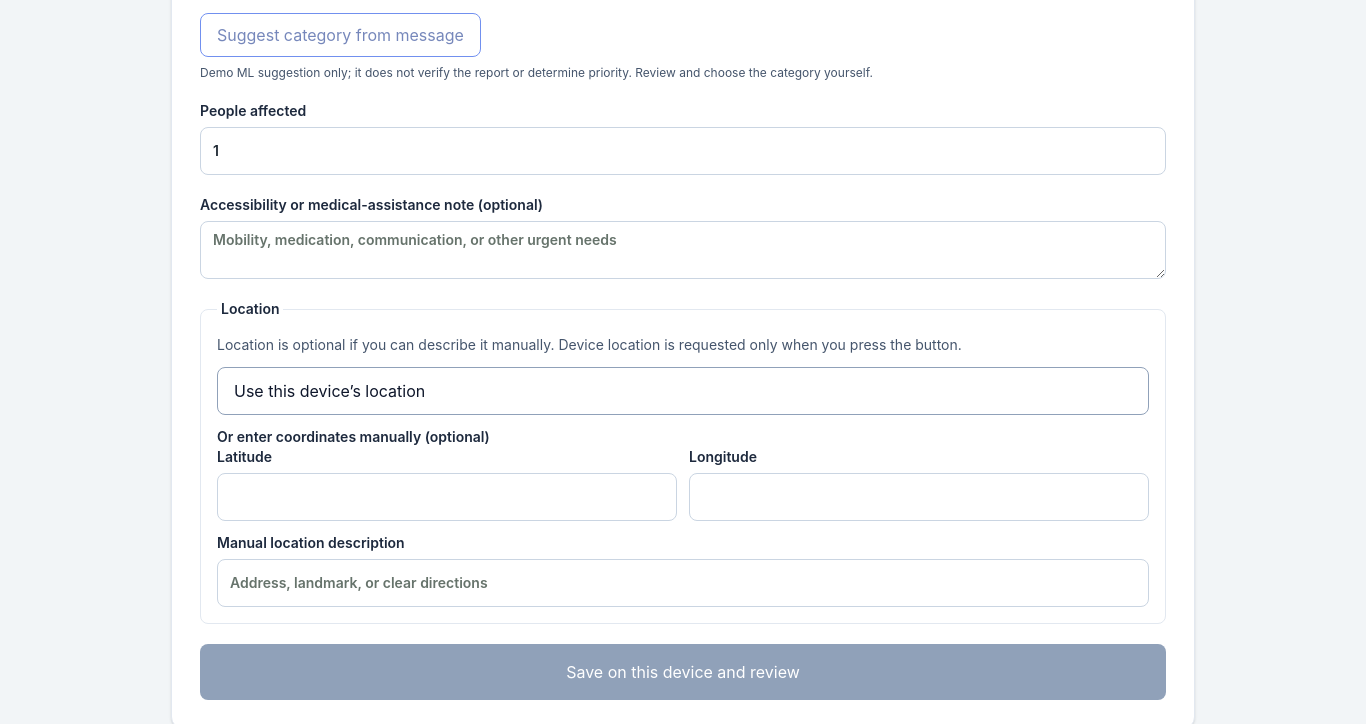
Scenario: offline emergency mode › labels manually entered coordinates as unverified and validates coordinate bounds
This screenshot has width=1366, height=724.
(page scrolled)
Type "27.7" into the number field labelled "Latitude". click: (447, 497)
box: top-left (217, 473), bottom-right (677, 521)
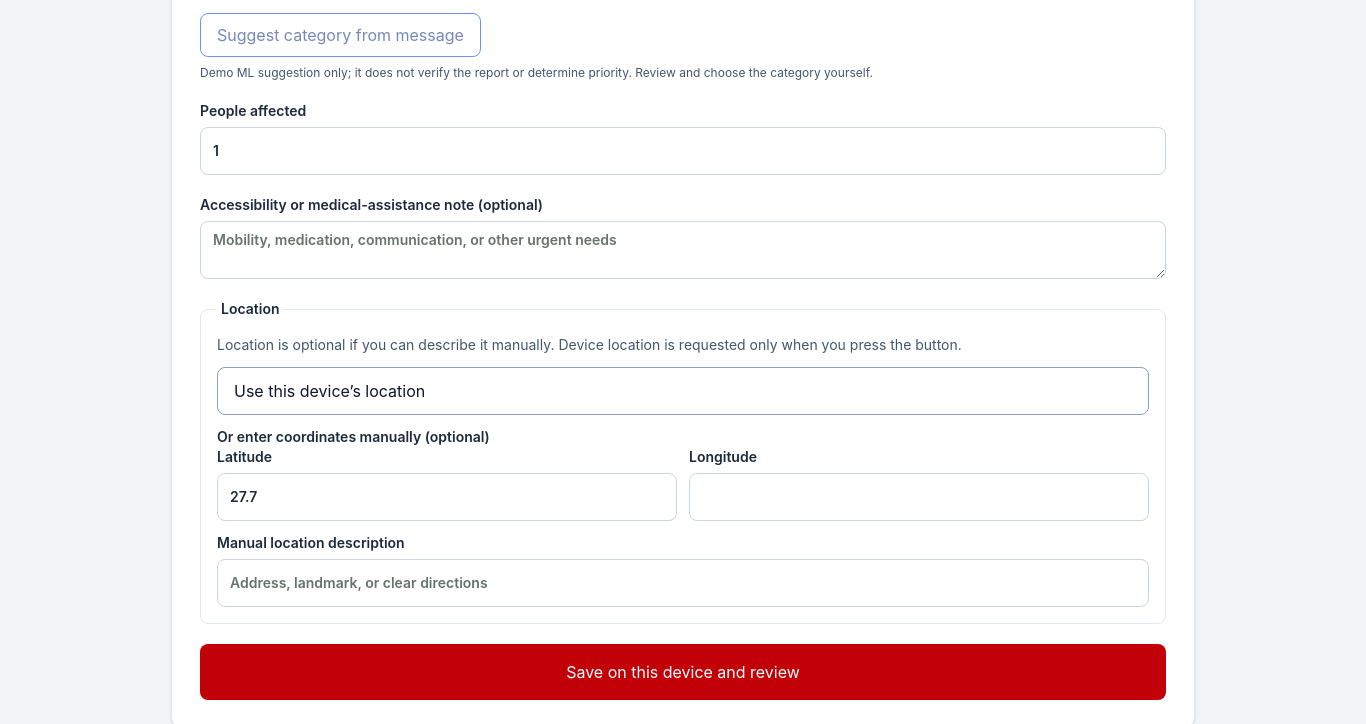
Type "85.3" into the number field labelled "Longitude". click: (919, 497)
box: top-left (689, 473), bottom-right (1149, 521)
(page scrolled)
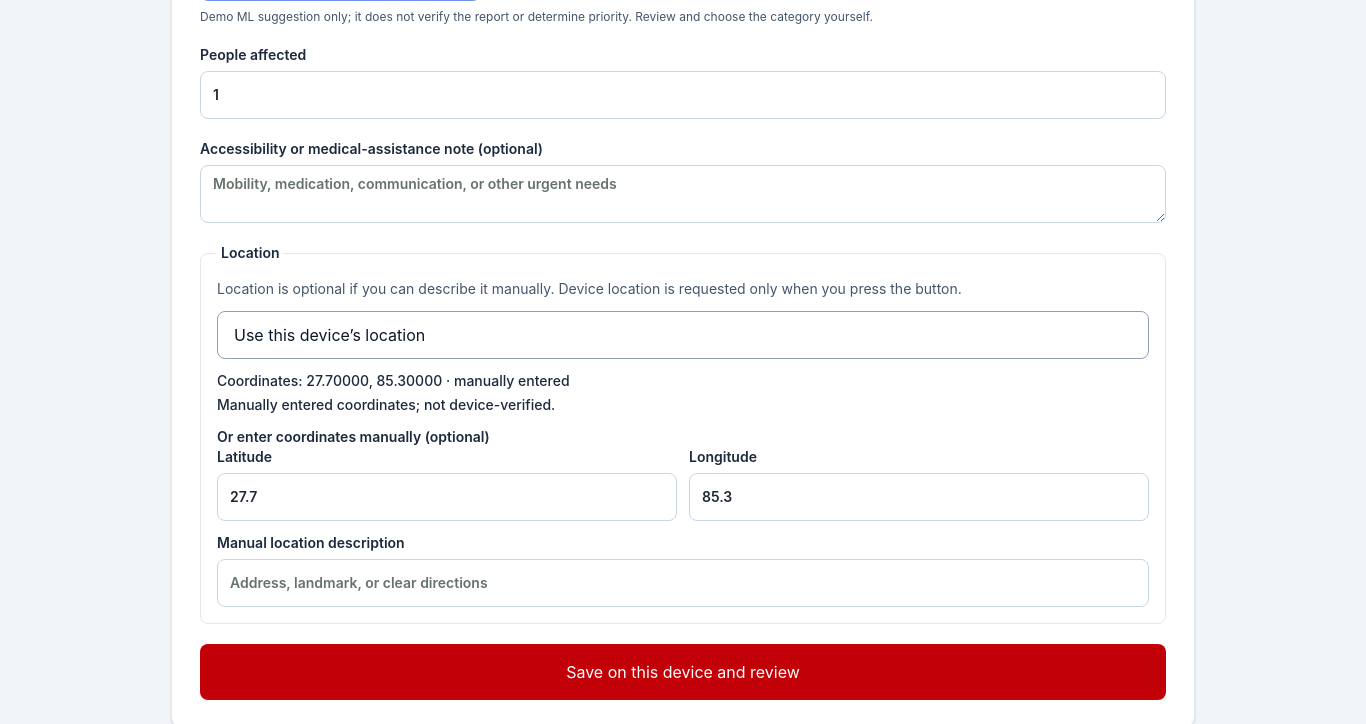
Now the text "Manually entered coordinates; not device-verified." is shown, box top-left (217, 396), bottom-right (555, 413)
Click the button "Save on this device and review". click: (683, 672)
box: top-left (200, 644), bottom-right (1166, 700)
(page scrolled)
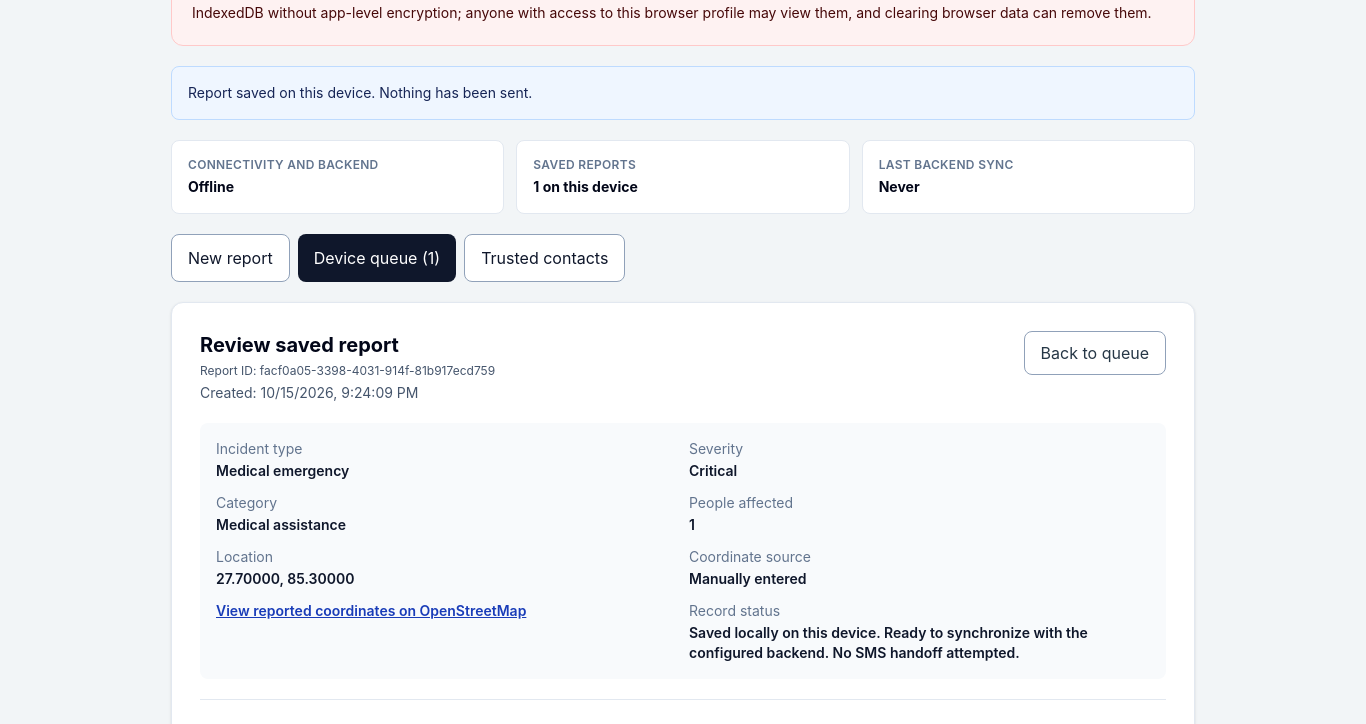
Now the heading "Review saved report" is shown, box top-left (200, 333), bottom-right (399, 357)
